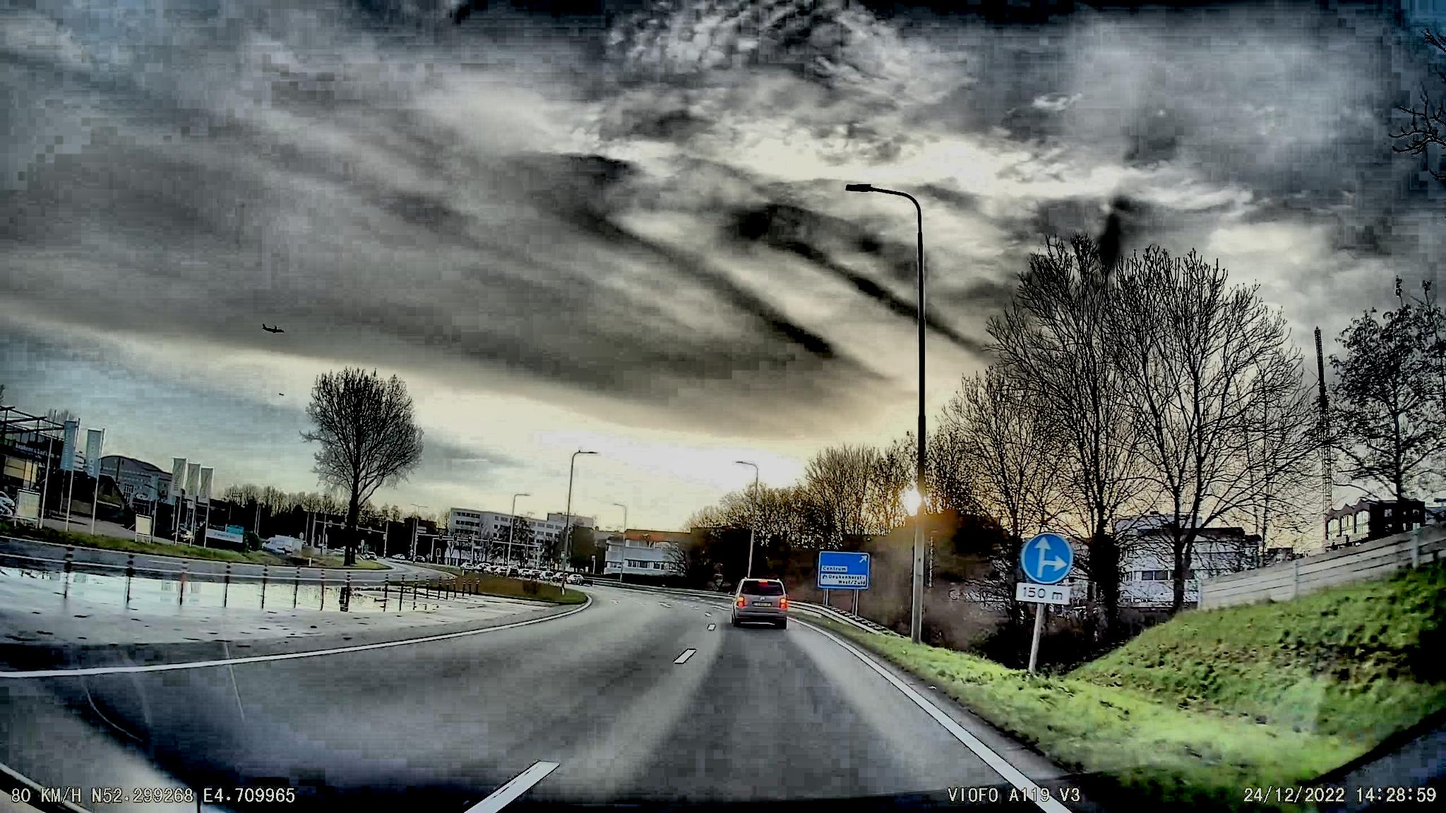Roads: (0, 574, 1129, 813)
